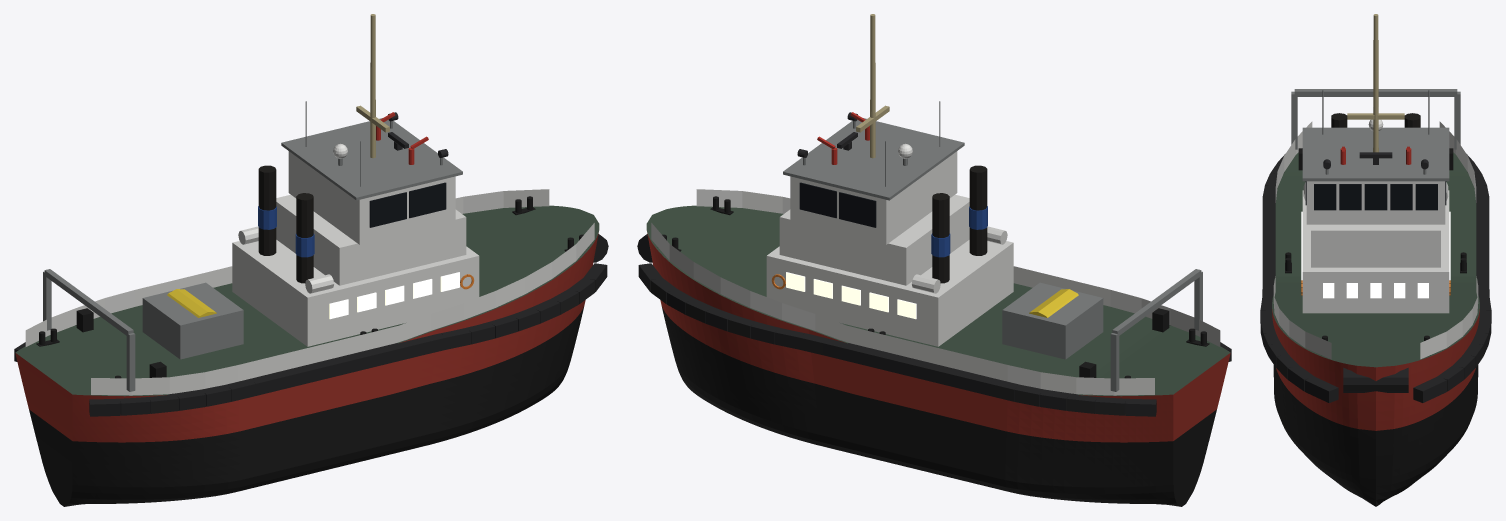
Rendered from tug30.glb.
The picture shows the model from 3 angles, left to right: view 1: azimuth 30°, elevation 25°; view 2: azimuth 150°, elevation 25°; view 3: azimuth 270°, elevation 25°; orthographic projection. The views are drawn at different scales.
Parts seen in each view (by area): view 1: tug30; view 2: tug30; view 3: tug30.
Part boxes in pixels (left/top/right/bottom): tug30: left=14, top=14, right=608, bottom=506; tug30: left=637, top=14, right=1231, bottom=506; tug30: left=1260, top=14, right=1491, bottom=506.
Bounding box in the file's own units: 30.4 × 21.9 × 11.35.
